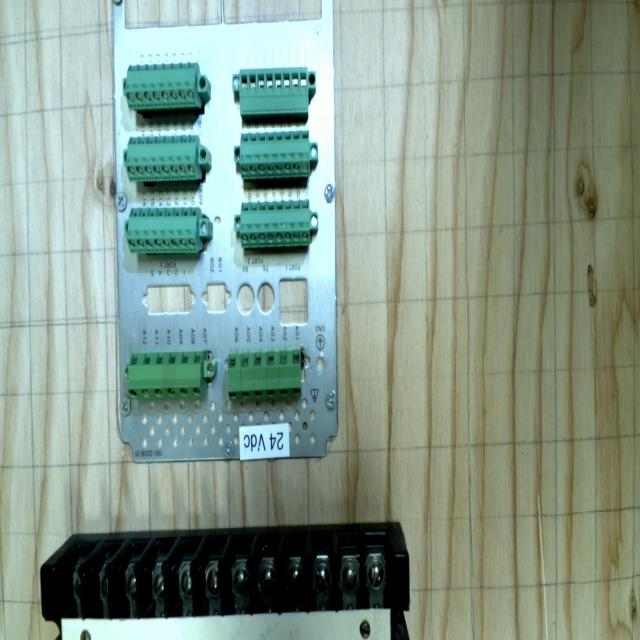Terminal_1: (225, 349, 303, 401), (126, 351, 204, 400)
Terminal_2: (238, 131, 311, 180), (124, 63, 198, 110), (239, 200, 311, 248), (125, 136, 199, 182), (126, 208, 199, 253)
